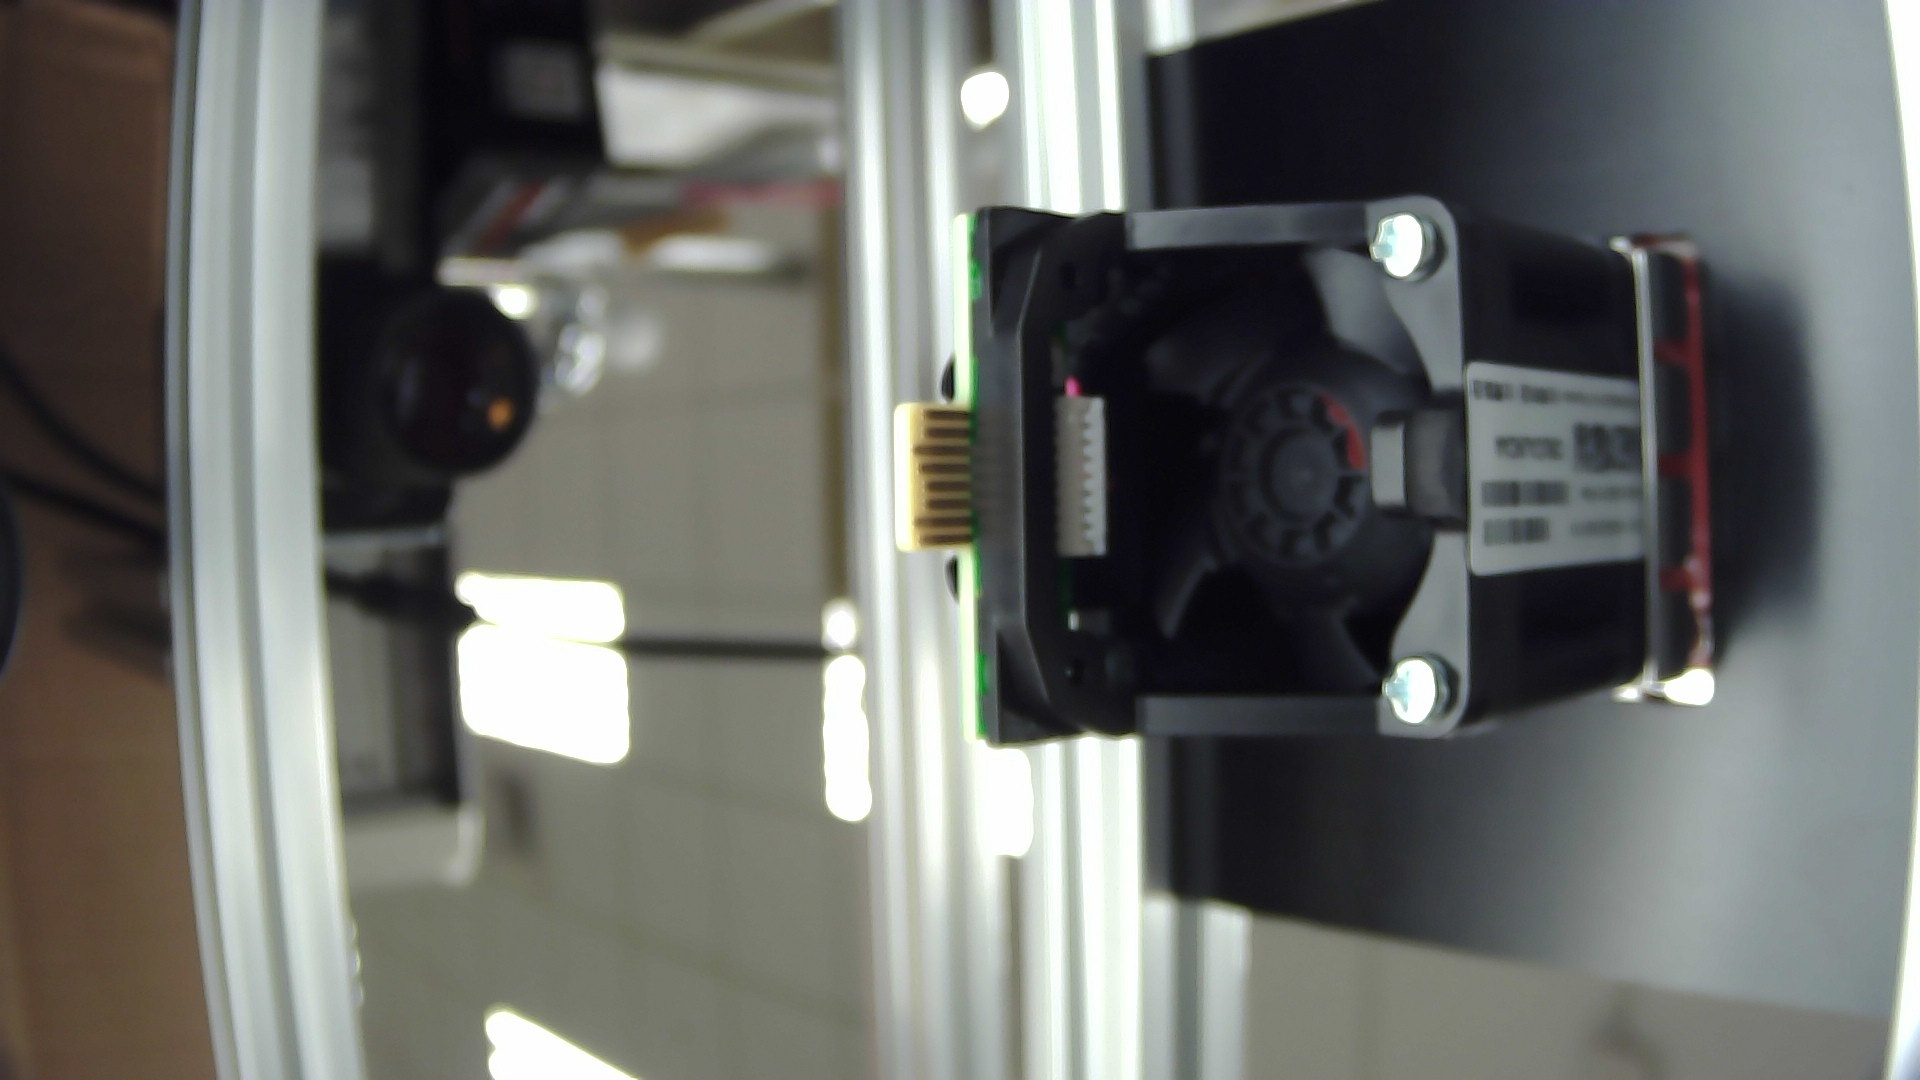4_0: (852, 157, 1799, 806)
